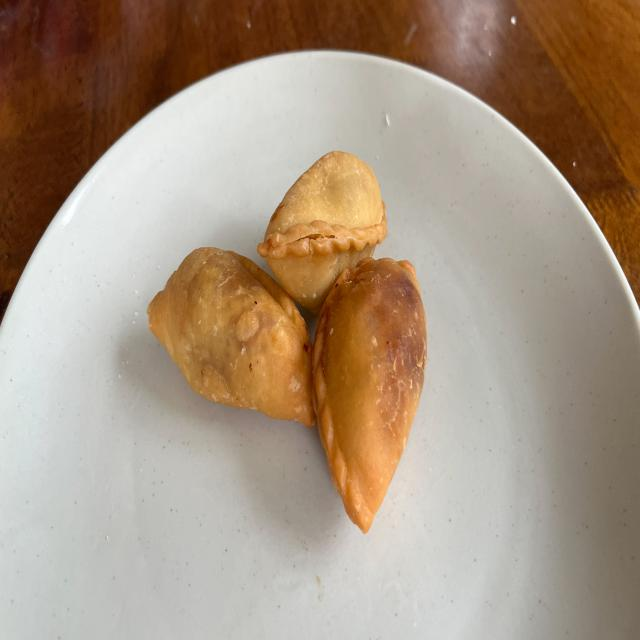karipap: (312, 258, 426, 533), (148, 247, 316, 427), (258, 151, 388, 313)
